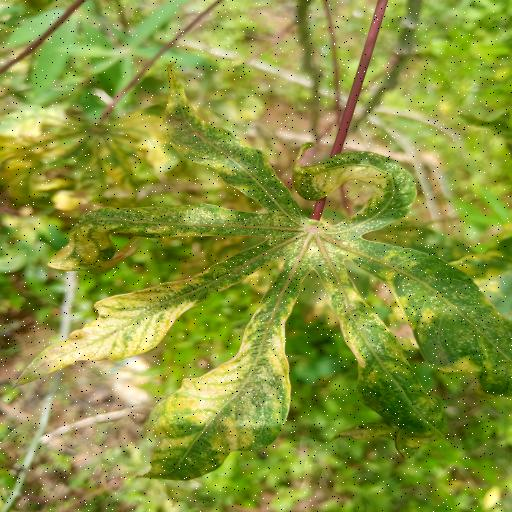Cassava_Mosaic: (2, 61, 512, 480)
